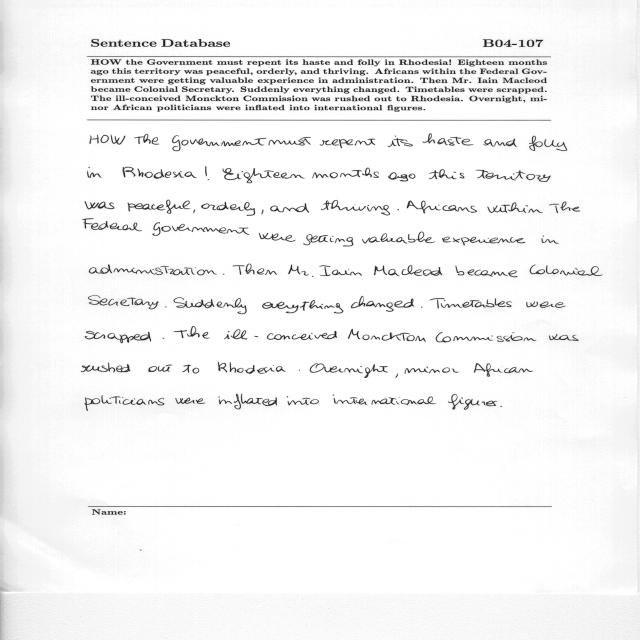word: (173, 135, 267, 151), (89, 265, 217, 276), (153, 222, 250, 236), (85, 395, 164, 411), (222, 168, 305, 183), (224, 329, 337, 340), (174, 297, 247, 314), (310, 363, 388, 378), (263, 300, 344, 314), (436, 332, 536, 343), (321, 200, 390, 215), (333, 395, 436, 405), (348, 329, 426, 342), (351, 296, 414, 312), (89, 296, 159, 310), (218, 394, 277, 410), (407, 201, 477, 214), (430, 298, 512, 309), (122, 167, 197, 179), (476, 170, 551, 182), (128, 200, 191, 214), (362, 232, 435, 244), (530, 264, 603, 276), (474, 363, 533, 377), (218, 362, 285, 374), (448, 394, 498, 410), (85, 331, 151, 343), (201, 202, 255, 216), (374, 265, 442, 276), (442, 237, 525, 246), (456, 266, 518, 278), (312, 168, 379, 179), (83, 219, 142, 231), (303, 234, 354, 247), (487, 202, 543, 213), (423, 134, 474, 146), (529, 136, 567, 151), (320, 139, 375, 148), (82, 363, 131, 373), (233, 264, 277, 275), (319, 265, 362, 276), (174, 326, 209, 339), (270, 203, 309, 213), (405, 367, 459, 374), (90, 135, 126, 145), (429, 169, 464, 179), (268, 137, 311, 145), (549, 202, 580, 213), (288, 264, 314, 277), (259, 233, 296, 242), (287, 397, 319, 406), (387, 136, 413, 147), (526, 301, 566, 308), (483, 139, 517, 147), (86, 201, 115, 210), (134, 134, 159, 144), (388, 173, 415, 182), (549, 334, 579, 341), (176, 398, 206, 404), (149, 365, 173, 372), (542, 235, 559, 244), (183, 365, 200, 374), (88, 167, 101, 178), (205, 167, 209, 180), (262, 210, 264, 215), (396, 373, 398, 378), (194, 209, 196, 213), (397, 209, 399, 210), (165, 307, 167, 308), (500, 406, 502, 407), (223, 274, 224, 275), (421, 307, 422, 308), (163, 338, 164, 339), (299, 370, 300, 371)
